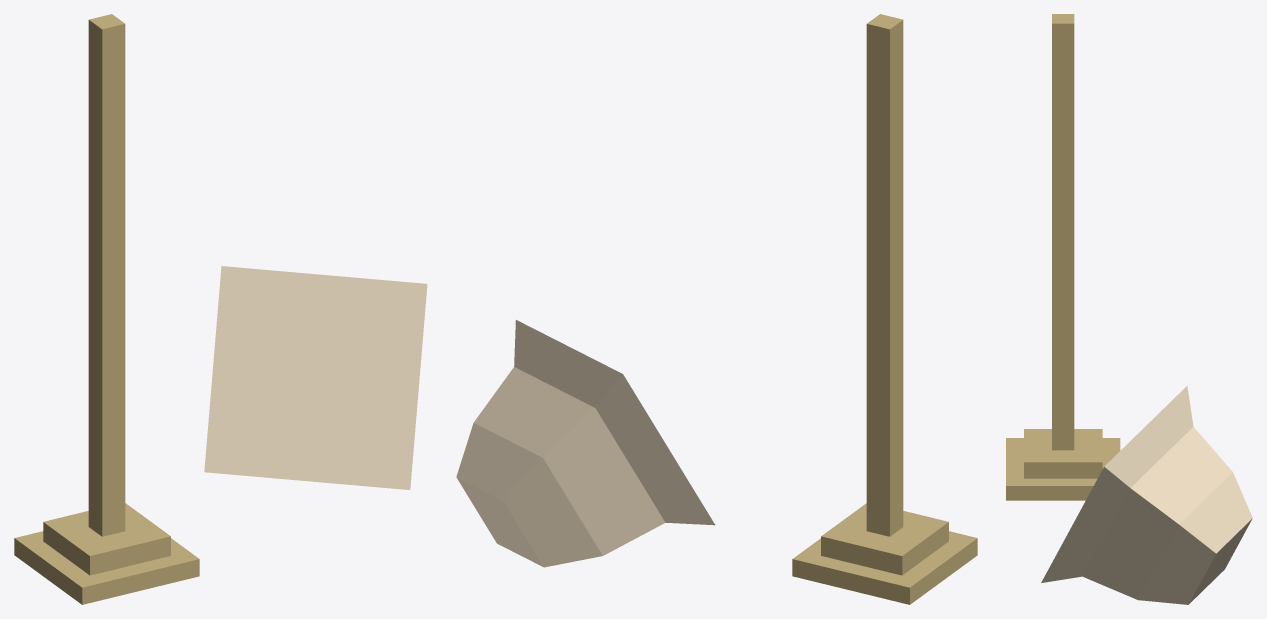
File: lampD.fbx
3 renders of one model, left to right at view 1: azimuth 30°, elevation 25°; view 2: azimuth 150°, elevation 25°; view 3: azimuth 270°, elevation 25°, orthographic. The views are drawn at different scales.
Parts seen in each view (by area): view 1: Shade, Stand; view 2: Shade, Stand; view 3: Shade, Stand.
Boxes of the visible parts, bbox=[...] form: Shade: bbox=[204, 266, 427, 489]; Stand: bbox=[14, 14, 199, 604]; Shade: bbox=[456, 320, 714, 567]; Stand: bbox=[792, 14, 977, 604]; Shade: bbox=[1041, 386, 1252, 604]; Stand: bbox=[1006, 14, 1120, 500].
Bounding box in the file's own units: 687 × 886 × 433.
